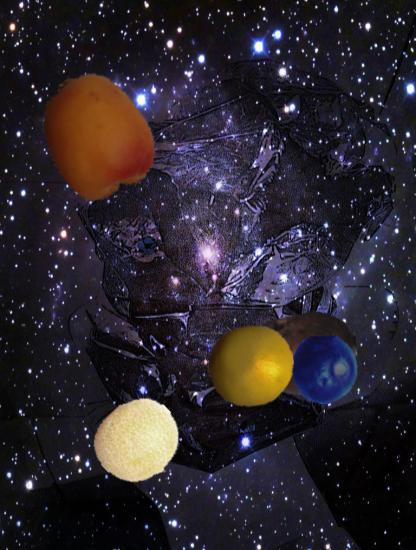Apricot: (32, 74, 158, 200)
Cantaloupe: (95, 398, 183, 486)
Chestnut: (244, 298, 357, 411)
Grapefruit: (208, 323, 294, 409)
Huckleberry: (290, 336, 358, 404)
